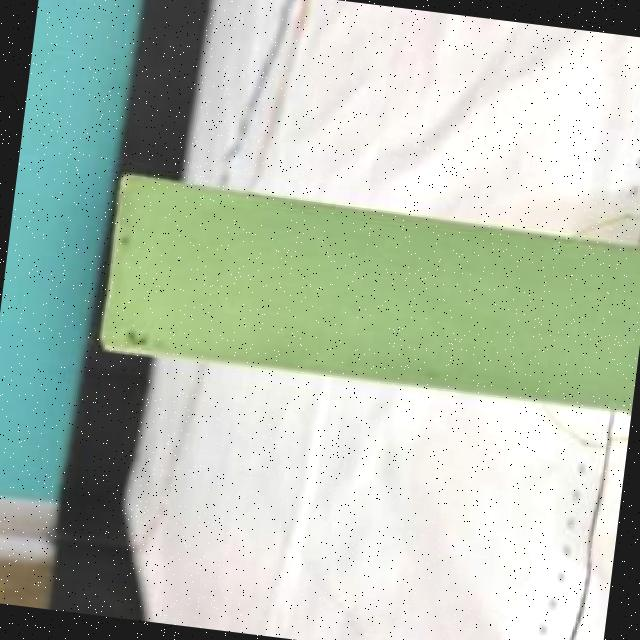greenbox: (95, 178, 640, 418)
